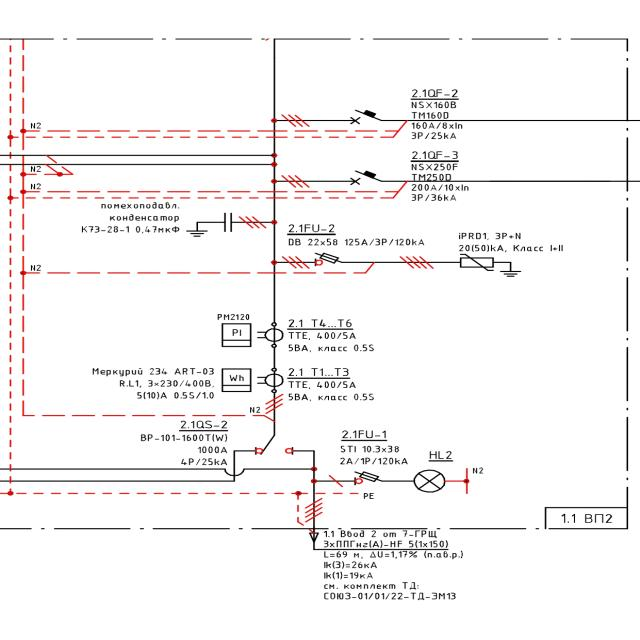-: (88, 364, 218, 401), (139, 432, 228, 466), (456, 230, 565, 254), (408, 163, 472, 203), (410, 100, 466, 141), (287, 380, 375, 402), (286, 330, 374, 352), (338, 442, 410, 467), (286, 237, 426, 249), (583, 511, 617, 525)
FV: (456, 252, 498, 272)
HL: (412, 469, 447, 493)
QF: (349, 108, 384, 125), (348, 169, 383, 185)
QFU: (351, 470, 383, 486), (313, 252, 345, 266)
TT: (256, 323, 284, 349), (256, 370, 285, 394)
WH: (220, 322, 254, 348), (219, 367, 253, 393)
switch: (253, 434, 295, 456)
